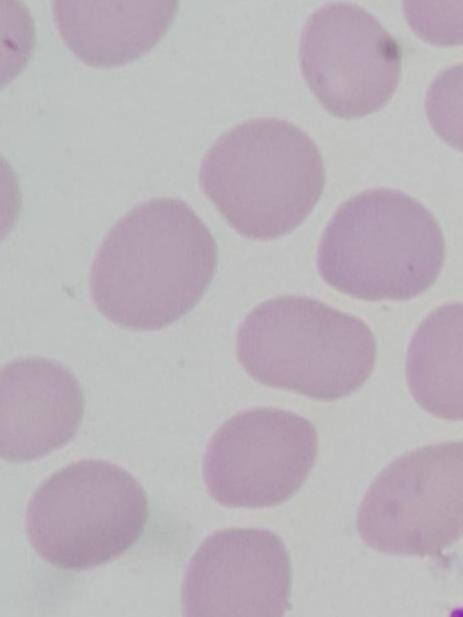Uninfected: (90, 197, 216, 328), (233, 294, 373, 402), (198, 119, 325, 236), (25, 457, 147, 567), (355, 441, 463, 559), (317, 192, 439, 296), (298, 7, 403, 122), (205, 406, 314, 509), (180, 527, 289, 617), (0, 356, 83, 463), (55, 0, 175, 71)
